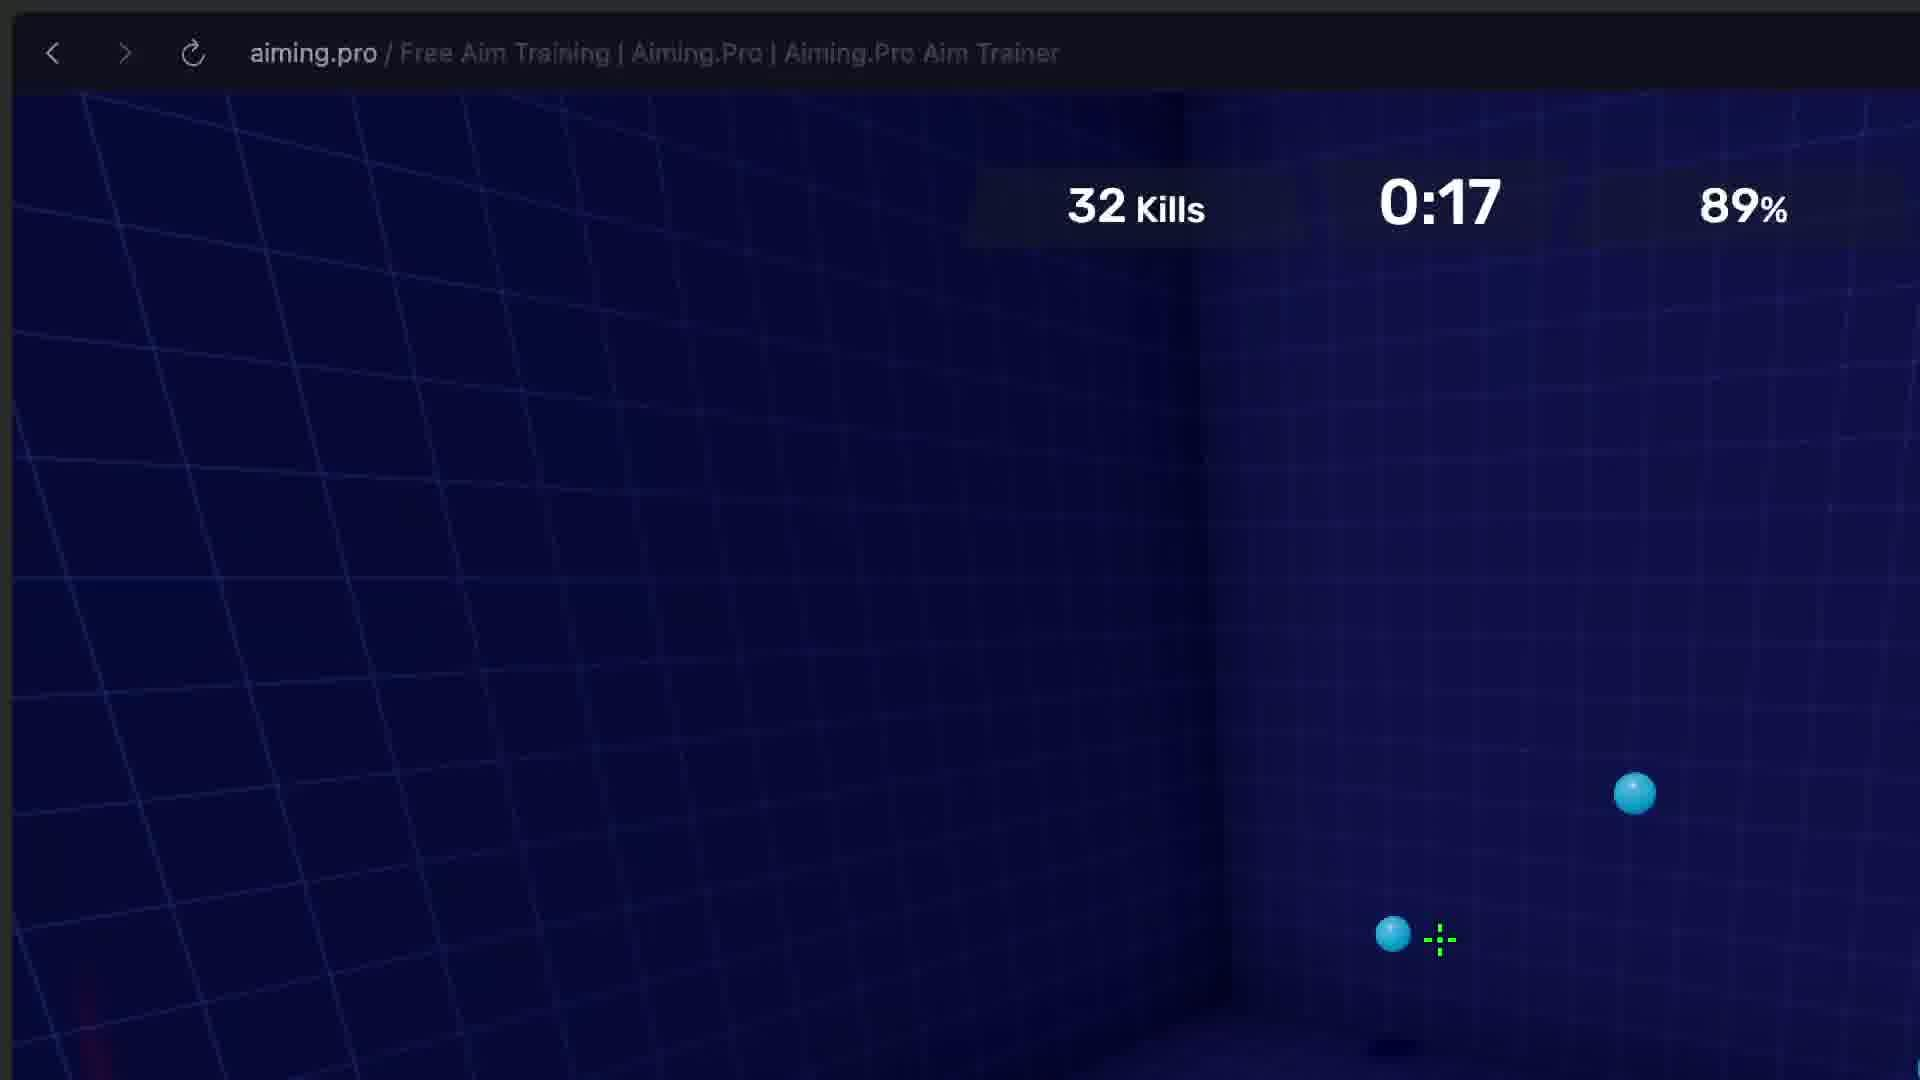target: (1614, 774, 1656, 815), (1375, 916, 1412, 949)
